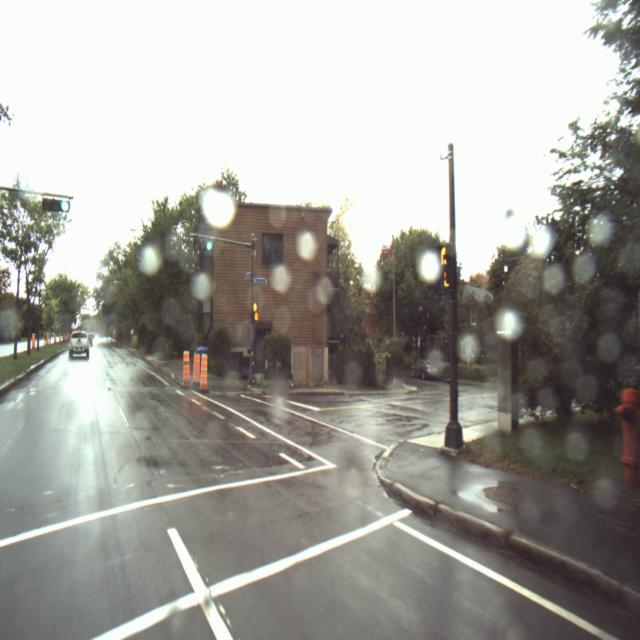car: (68, 330, 90, 362)
trafficLight: (438, 243, 454, 291), (252, 301, 261, 325)
trafficLight-Green: (59, 197, 70, 214), (205, 238, 215, 253)
